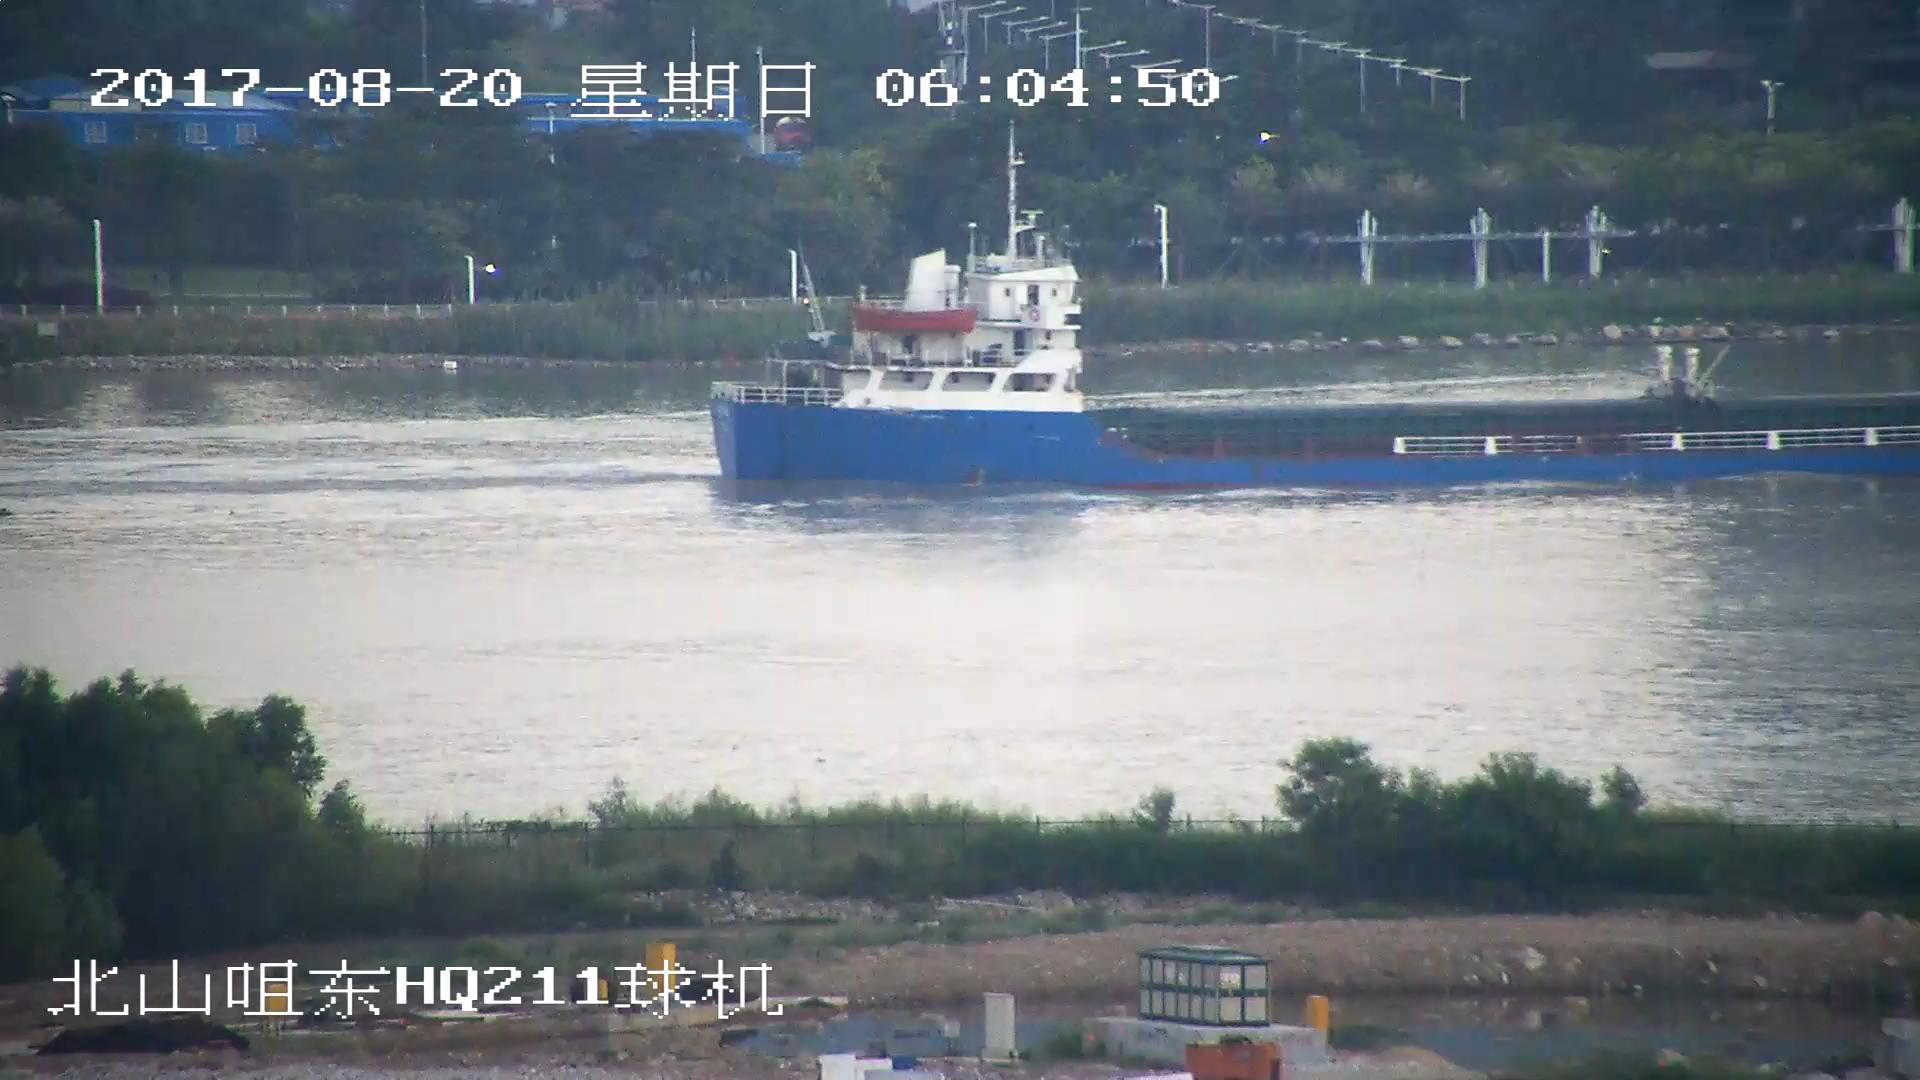general cargo ship: (707, 210, 1920, 492)
